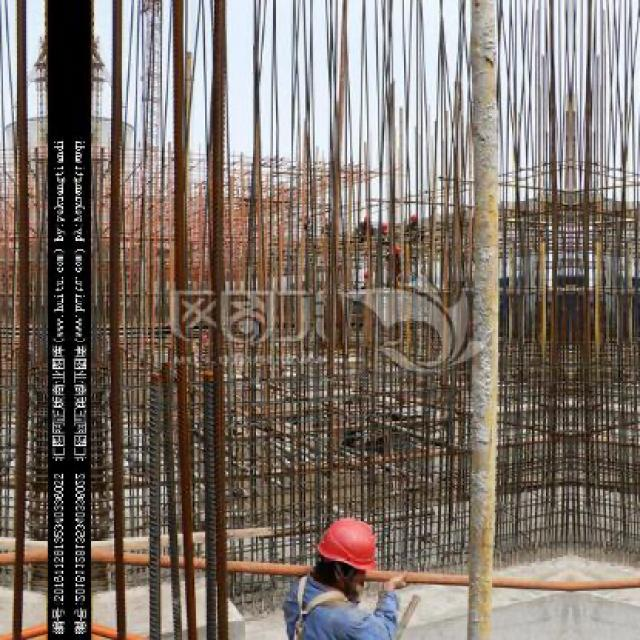helmet: (312, 511, 384, 600)
